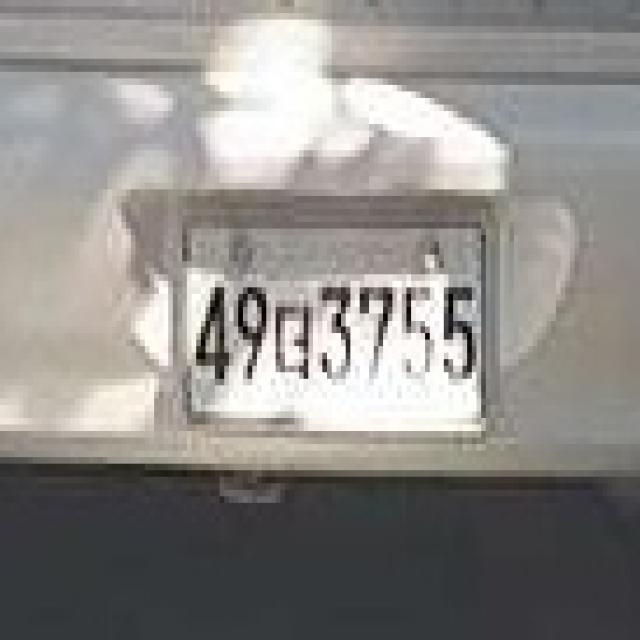3: (318, 280, 358, 394)
4: (188, 275, 232, 396)
5: (438, 280, 479, 398), (400, 278, 434, 392)
7: (361, 277, 396, 392)
9: (234, 276, 272, 390)
deo: (276, 278, 316, 391)
license_plate: (158, 178, 502, 446)
